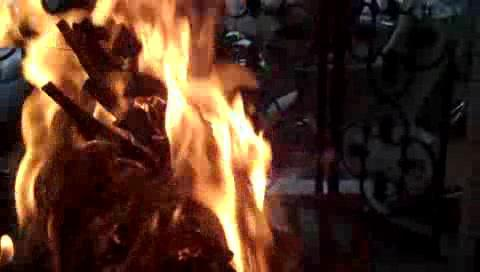fire: (23, 3, 262, 247)
